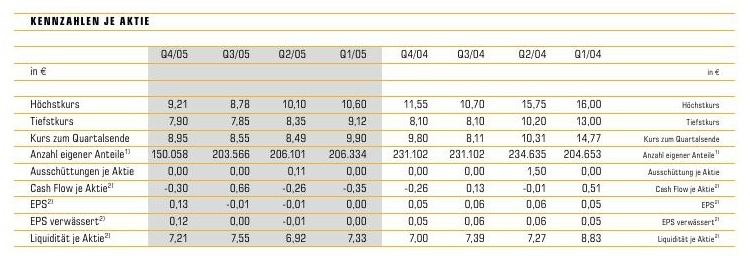table: (0, 0, 750, 256)
